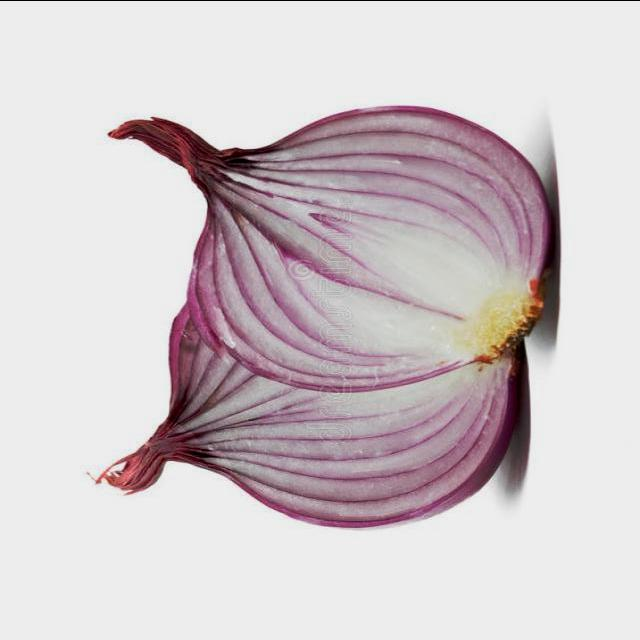onion: (124, 105, 562, 387), (91, 264, 533, 534)
